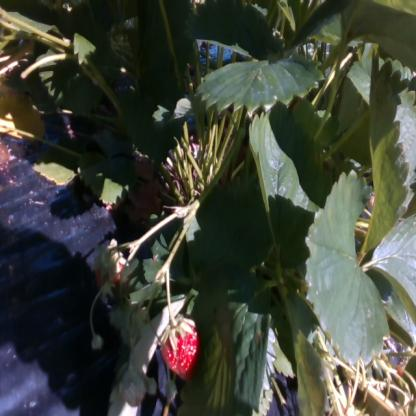ripe: (155, 316, 204, 383), (87, 252, 131, 297)
